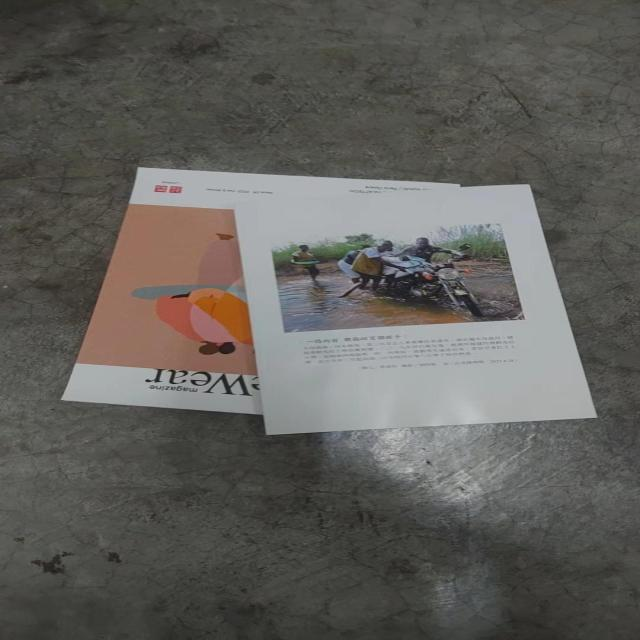paper: (58, 166, 602, 434)
